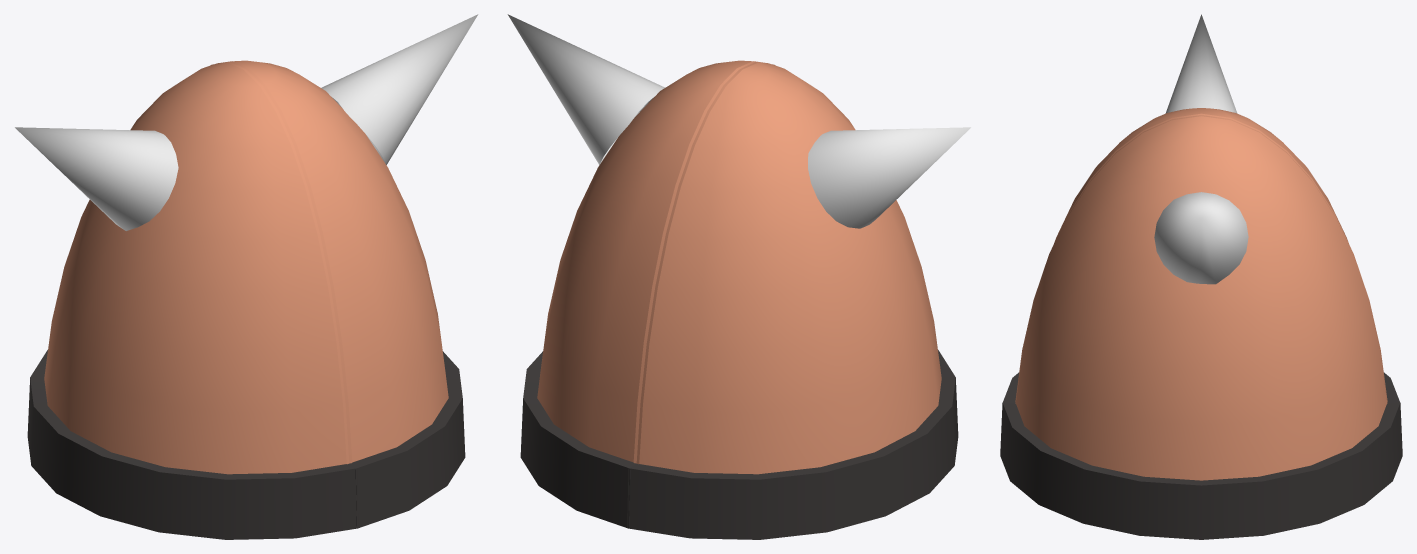
The model's file is uglyHelm.fbx.
3 renders of one model, left to right at view 1: azimuth 30°, elevation 25°; view 2: azimuth 150°, elevation 25°; view 3: azimuth 270°, elevation 25°, orthographic. The views are drawn at different scales.
Visible parts, largest first — view 1: pCone4; view 2: pCone4; view 3: pCone4.
Boxes of the visible parts, box(x1,y1,x2,y2) form: pCone4: box(15, 14, 478, 539); pCone4: box(507, 14, 970, 539); pCone4: box(1000, 14, 1402, 539).
Size of the model in its own units: 2.57 by 2 by 2.14.
